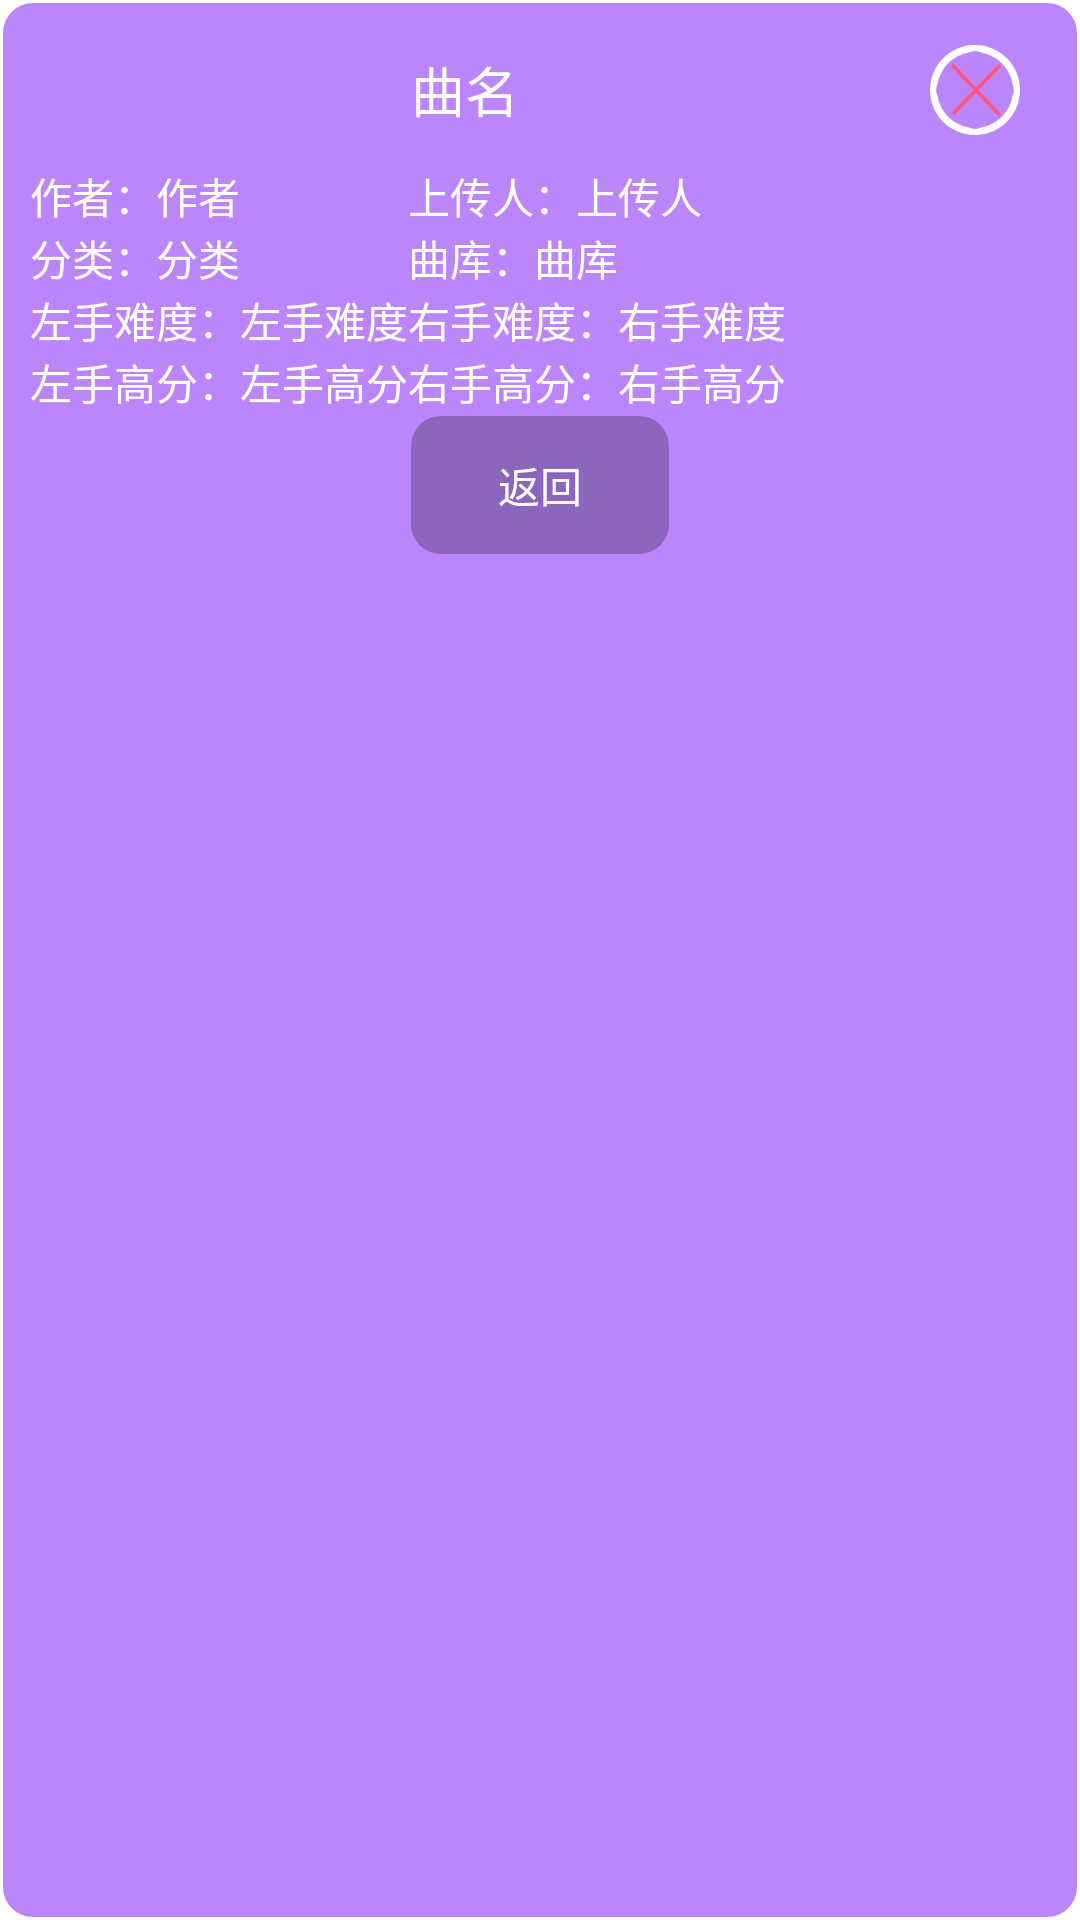

Where to tap for icons on this 1080*1920 app screen, as (x,y):
delete: (975,90)
